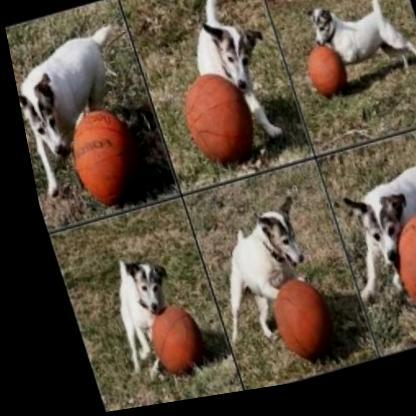basketball: (52, 100, 155, 213), (244, 273, 336, 378), (167, 70, 258, 175), (121, 299, 198, 383), (367, 214, 416, 341), (290, 46, 350, 113)
